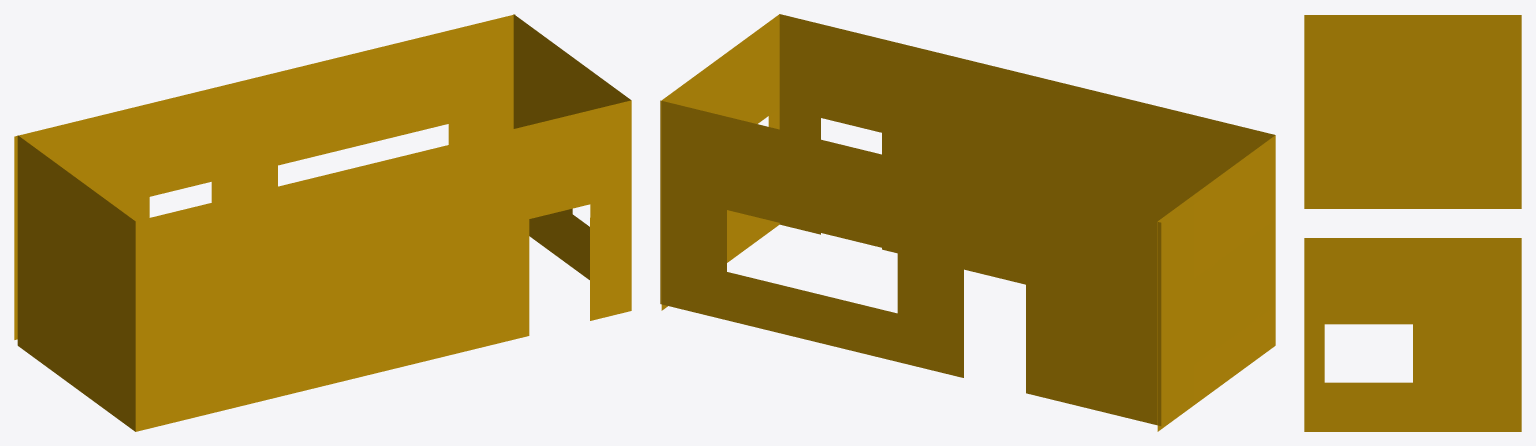
3 views of the same model, side by side, from view 1: azimuth 30°, elevation 25°; view 2: azimuth 150°, elevation 25°; view 3: azimuth 270°, elevation 25° (orthographic). The views are drawn at different scales.
Visible parts, largest first — view 1: R_02_WP_02; view 2: R_02_WP_02; view 3: R_02_WP_02.
Boxes of the visible parts, left/top/right/bottom form: R_02_WP_02: left=14, top=14, right=631, bottom=431; R_02_WP_02: left=660, top=14, right=1275, bottom=431; R_02_WP_02: left=1304, top=15, right=1521, bottom=431.
Size of the model in its own units: 1019 by 409 by 416.
